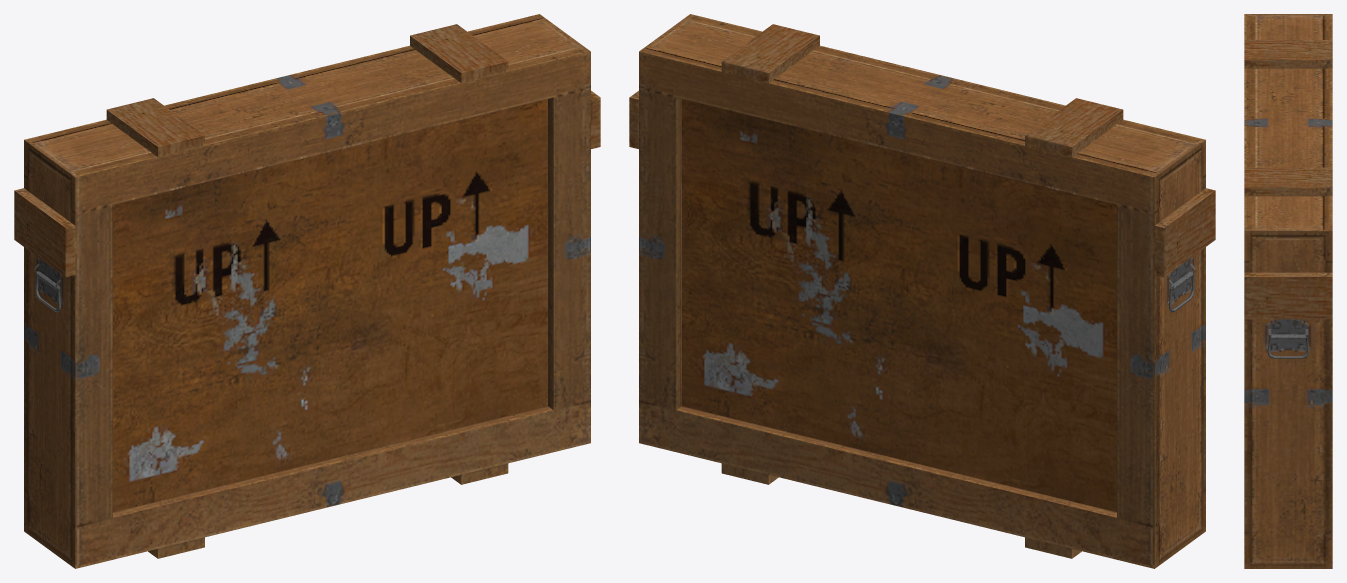
Rendered from sm26_040_transportwoodbox02a.fbx.
3 renders of one model, left to right at view 1: azimuth 30°, elevation 25°; view 2: azimuth 150°, elevation 25°; view 3: azimuth 270°, elevation 25°, orthographic. The views are drawn at different scales.
Visible parts, largest first — view 1: LOD_1_Group_0_Sub_1__sm26_015_TransportWoodBox01A_A_Mat, LOD_1_Group_1_Sub_1__sm26_015_TransportWoodBox01A_A_Mat; view 2: LOD_1_Group_0_Sub_1__sm26_015_TransportWoodBox01A_A_Mat, LOD_1_Group_1_Sub_1__sm26_015_TransportWoodBox01A_A_Mat; view 3: LOD_1_Group_0_Sub_1__sm26_015_TransportWoodBox01A_A_Mat, LOD_1_Group_1_Sub_1__sm26_015_TransportWoodBox01A_A_Mat.
Part boxes in pixels (x1,y1,x2,y2): LOD_1_Group_0_Sub_1__sm26_015_TransportWoodBox01A_A_Mat: (24, 14, 590, 568); LOD_1_Group_1_Sub_1__sm26_015_TransportWoodBox01A_A_Mat: (14, 24, 600, 558); LOD_1_Group_0_Sub_1__sm26_015_TransportWoodBox01A_A_Mat: (639, 14, 1205, 568); LOD_1_Group_1_Sub_1__sm26_015_TransportWoodBox01A_A_Mat: (629, 24, 1215, 558); LOD_1_Group_0_Sub_1__sm26_015_TransportWoodBox01A_A_Mat: (1244, 14, 1332, 568); LOD_1_Group_1_Sub_1__sm26_015_TransportWoodBox01A_A_Mat: (1244, 40, 1332, 319).
Size of the model in its own units: 1.26 by 0.9292 by 0.2102.
